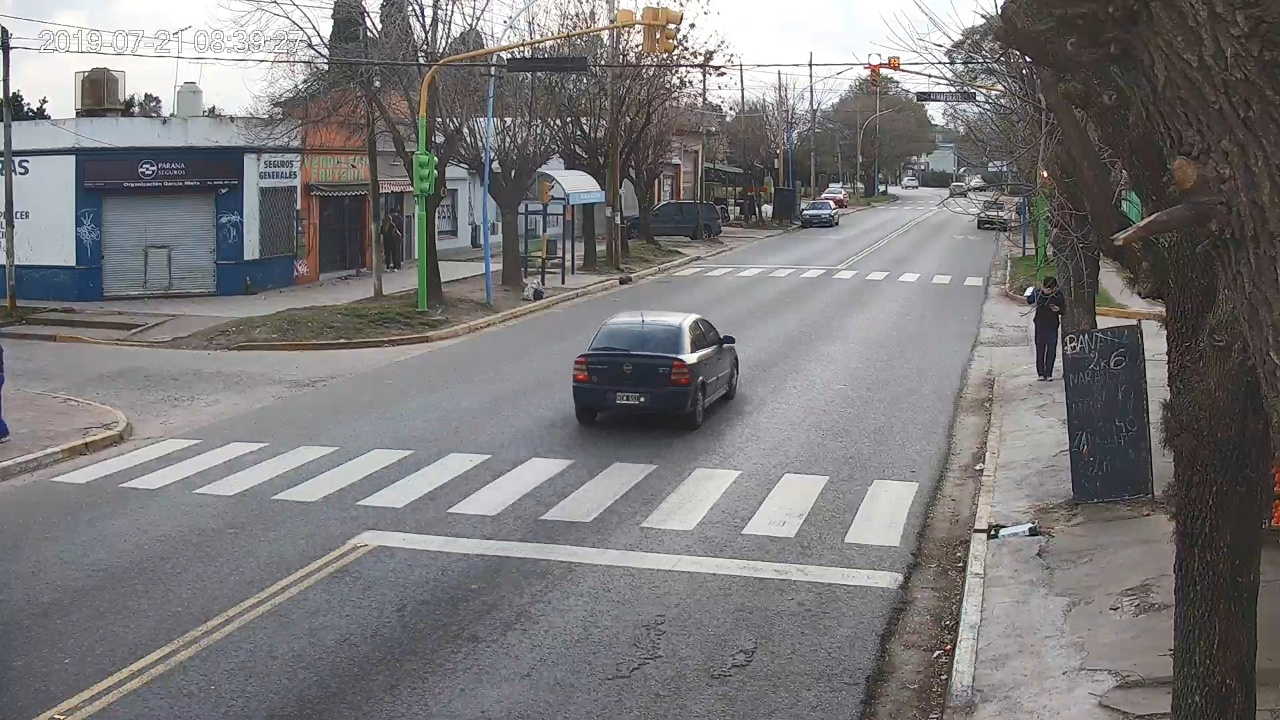car: (573, 311, 740, 426)
traffic light: (869, 53, 881, 85)
